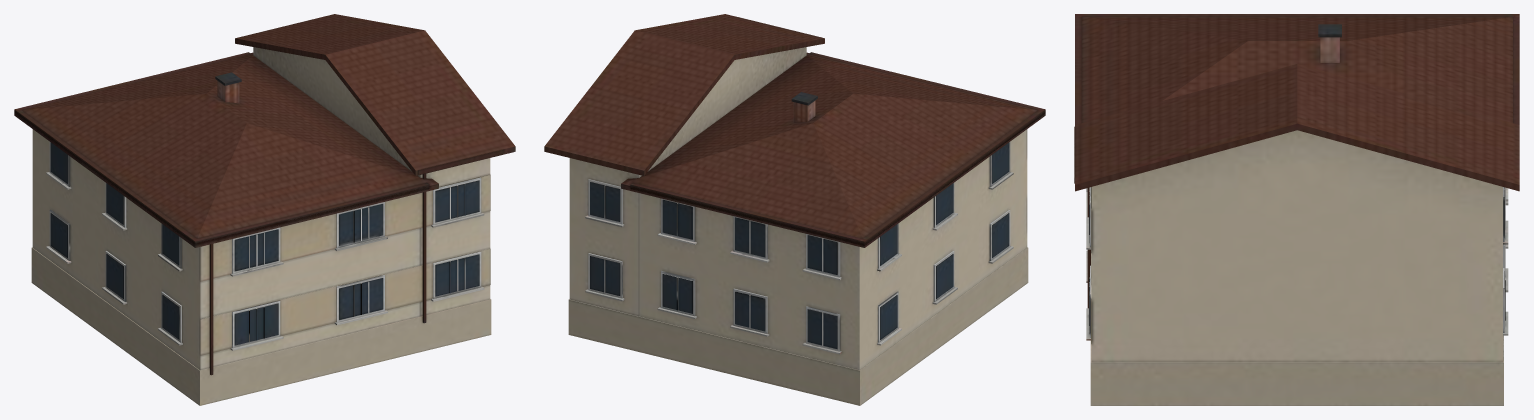
Rendered from przedszkole1.glb.
The picture shows the model from 3 angles, left to right: view 1: azimuth 30°, elevation 25°; view 2: azimuth 150°, elevation 25°; view 3: azimuth 270°, elevation 25°; orthographic projection. The views are drawn at different scales.
Parts seen in each view (by area): view 1: przedszkole1; view 2: przedszkole1; view 3: przedszkole1.
Boxes of the visible parts, bbox=[...] form: przedszkole1: bbox=[14, 14, 515, 405]; przedszkole1: bbox=[544, 14, 1045, 405]; przedszkole1: bbox=[1074, 14, 1519, 405].
Size of the model in its own units: 13.8 by 9.82 by 13.52.
1 material, 1 textured.
